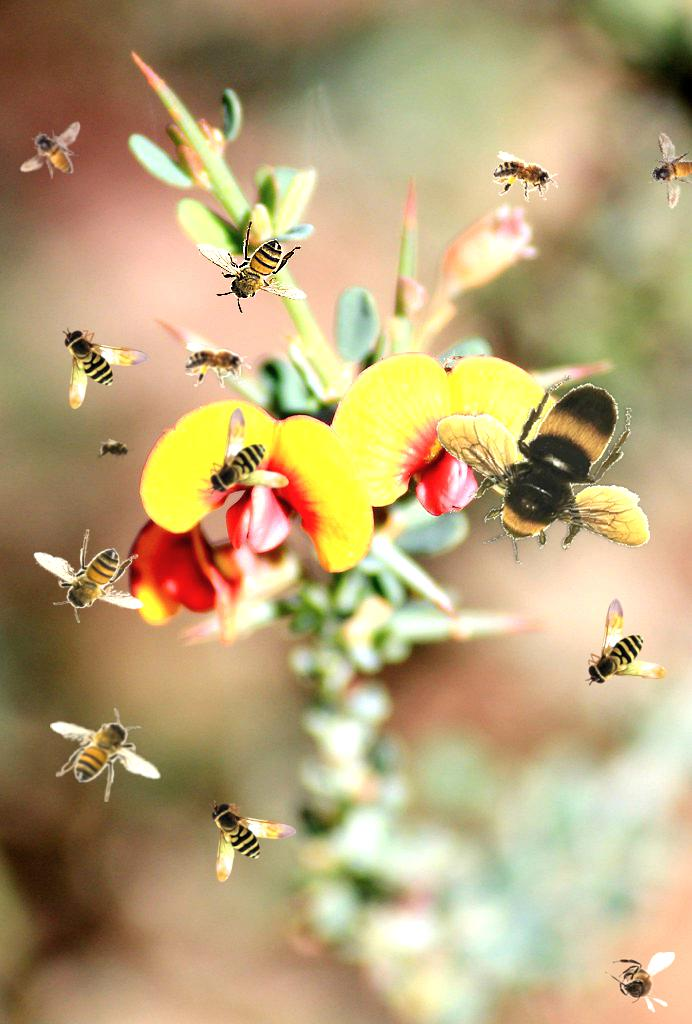Bee: (428, 368, 658, 571), (50, 708, 161, 802), (196, 220, 307, 314), (33, 529, 144, 623), (209, 800, 297, 882), (585, 598, 667, 686), (207, 407, 289, 495), (62, 327, 150, 409), (10, 119, 94, 188), (640, 131, 692, 214), (605, 952, 675, 1013), (489, 150, 563, 207), (185, 343, 251, 388), (93, 436, 137, 464)
